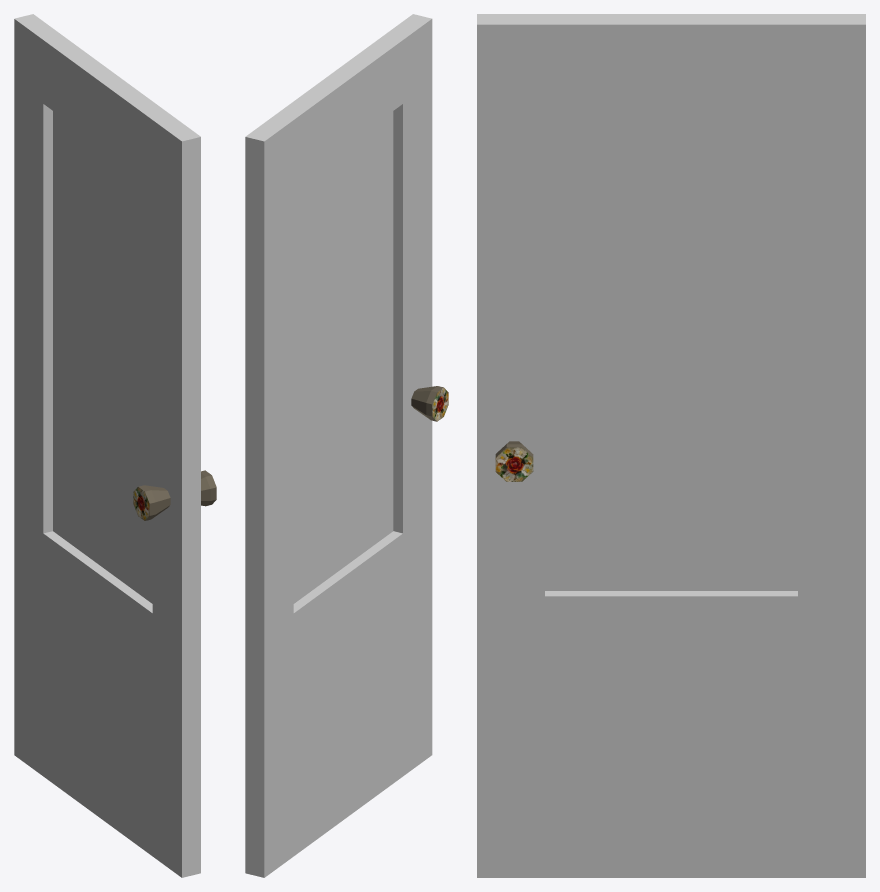
The model's file is Door_with_Glass.fbx.
3 renders of one model, left to right at view 1: azimuth 30°, elevation 25°; view 2: azimuth 150°, elevation 25°; view 3: azimuth 270°, elevation 25°, orthographic. The views are drawn at different scales.
Parts seen in each view (by area): view 1: Cube.055, Plane.018, Cylinder.032; view 2: Cube.055, Plane.018, Cylinder.032; view 3: Cube.055, Plane.018, Cylinder.032.
Part boxes in pixels (bbox=[...]): Cube.055: bbox=[14, 14, 200, 877]; Plane.018: bbox=[53, 111, 152, 603]; Cylinder.032: bbox=[133, 470, 216, 520]; Cube.055: bbox=[245, 14, 432, 877]; Plane.018: bbox=[293, 111, 393, 603]; Cylinder.032: bbox=[411, 386, 448, 421]; Cube.055: bbox=[477, 14, 865, 877]; Plane.018: bbox=[545, 98, 797, 590]; Cylinder.032: bbox=[495, 441, 533, 481].
Bounding box in the file's own units: 29.13 × 305 × 126.
Materials: 2 (2 with a texture image).
